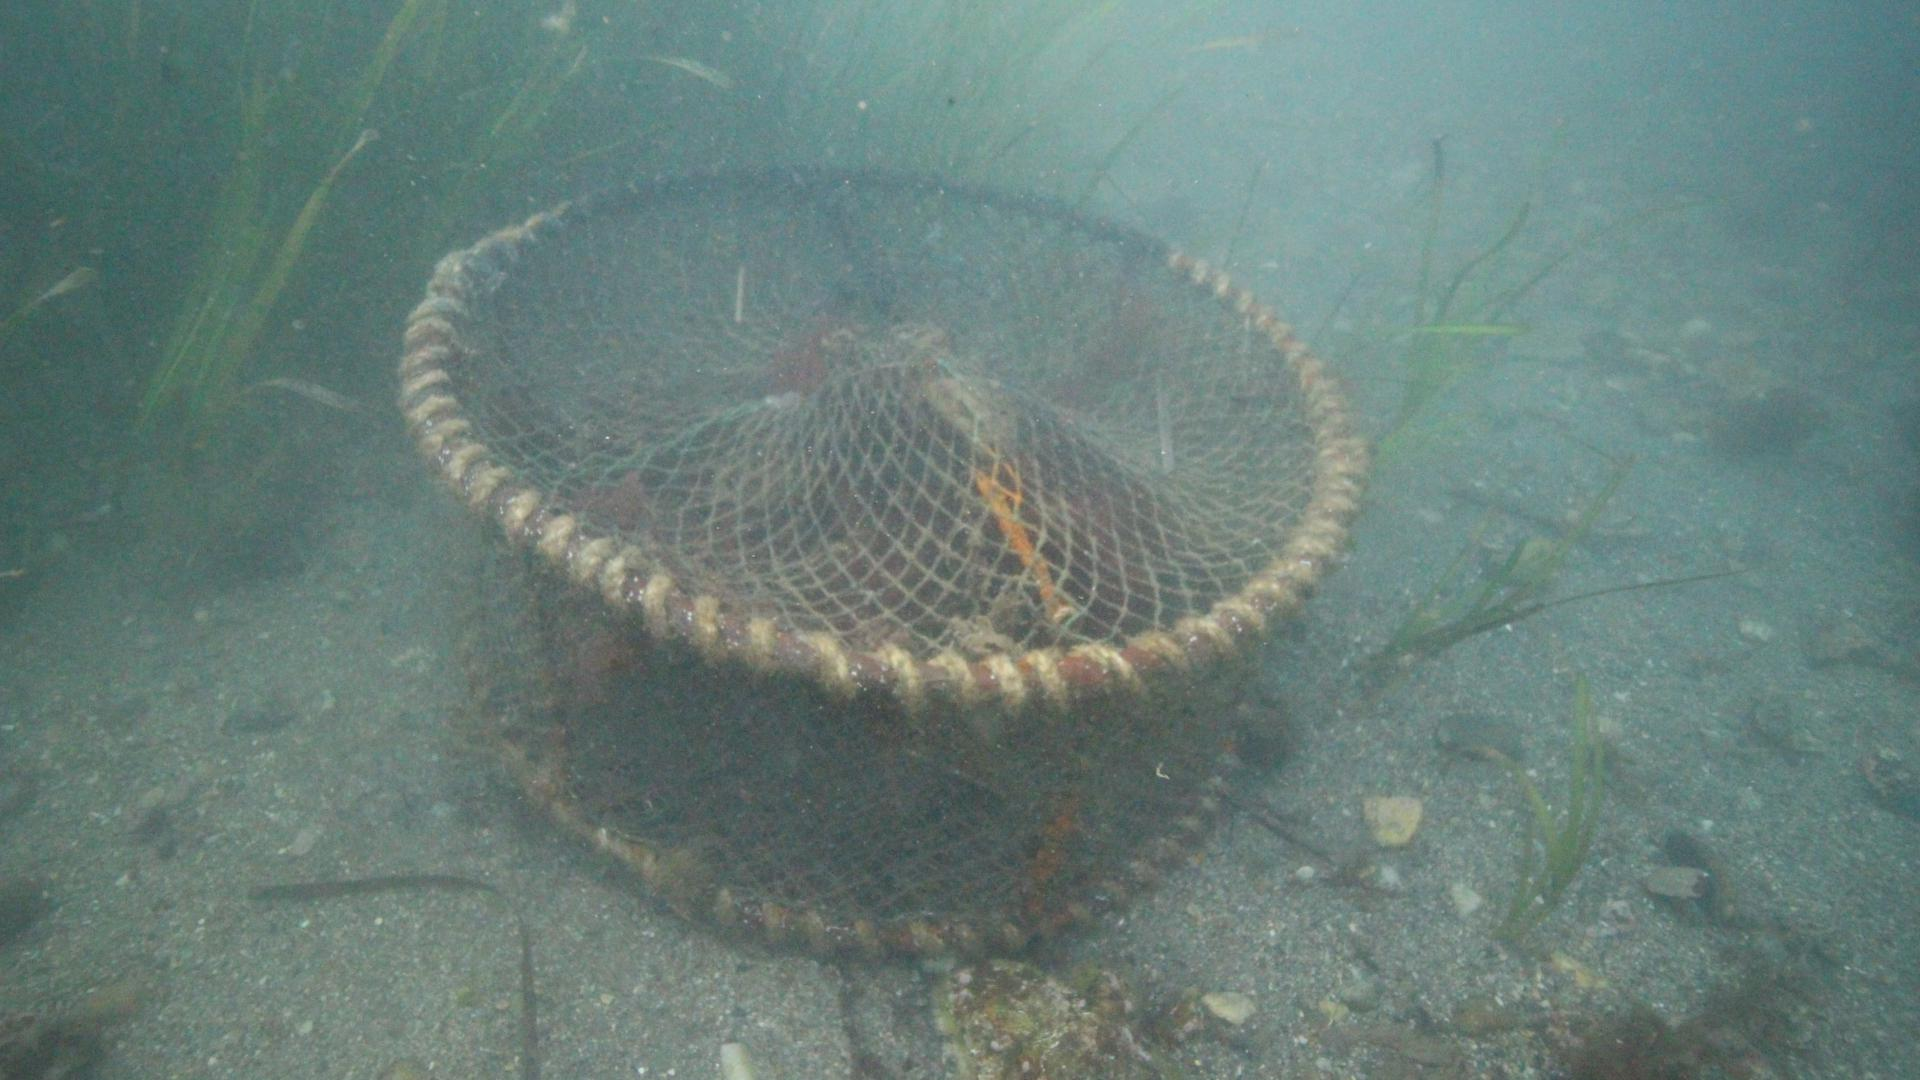circular fish trap: (392, 154, 1377, 957)
